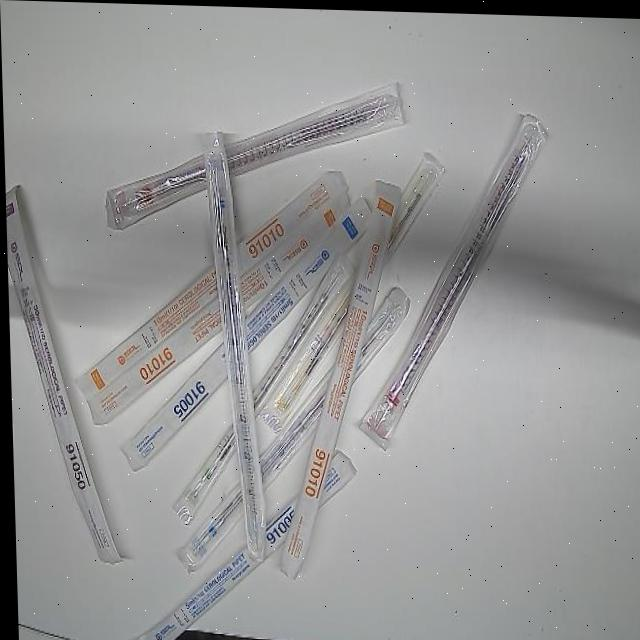Serelogical Pipet 1 mL - Sealed: (251, 143, 450, 436)
Serelogical Pipet 10 mL - Sealed: (78, 182, 355, 436), (66, 159, 349, 405), (266, 175, 415, 583)
Serelogical Pipet 2 mL - Sealed: (162, 246, 359, 528)
Serelogical Pipet 25 mL - Sealed: (349, 101, 558, 452), (101, 68, 408, 239)
Serelogical Pipet 5 mL - Sealed: (111, 187, 380, 476), (165, 279, 415, 577), (122, 443, 359, 640)
Serelogical Pipet 50 mL - Sealed: (4, 181, 125, 571)
